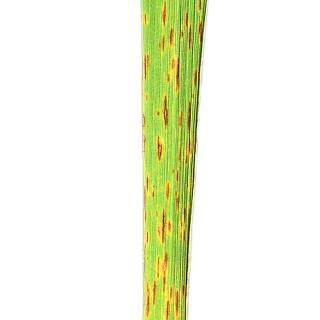Bercak-Cokelat-Sempit: (162, 173, 204, 246), (146, 255, 190, 320), (183, 0, 209, 50), (180, 100, 197, 164), (140, 173, 150, 244), (165, 56, 182, 95), (140, 54, 158, 81), (162, 96, 175, 130), (152, 135, 167, 163), (154, 1, 168, 29), (162, 31, 177, 55), (192, 68, 204, 93), (138, 12, 149, 29)
